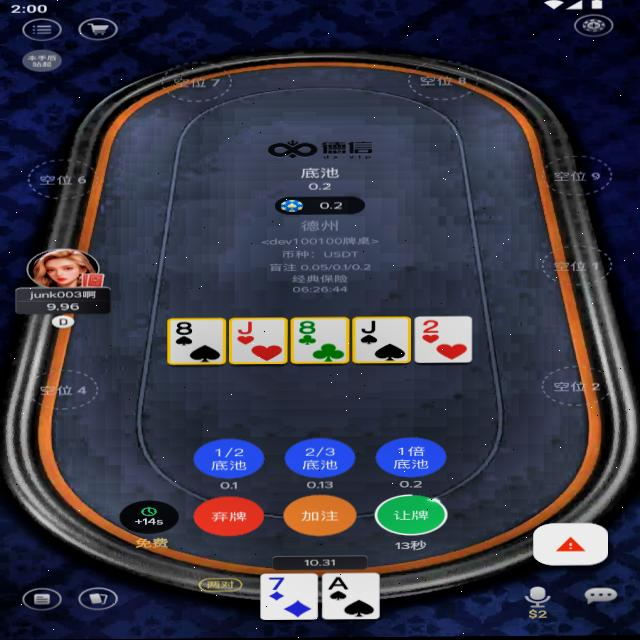2h: (421, 319, 444, 335)
7f: (264, 576, 290, 592)
8m: (295, 319, 322, 337)
8s: (172, 321, 198, 337)
As: (326, 576, 350, 592)
Jh: (231, 320, 264, 336)
Js: (358, 319, 383, 335)
